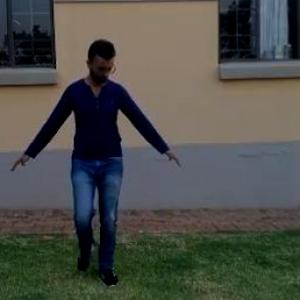land: (8, 25, 201, 272)
